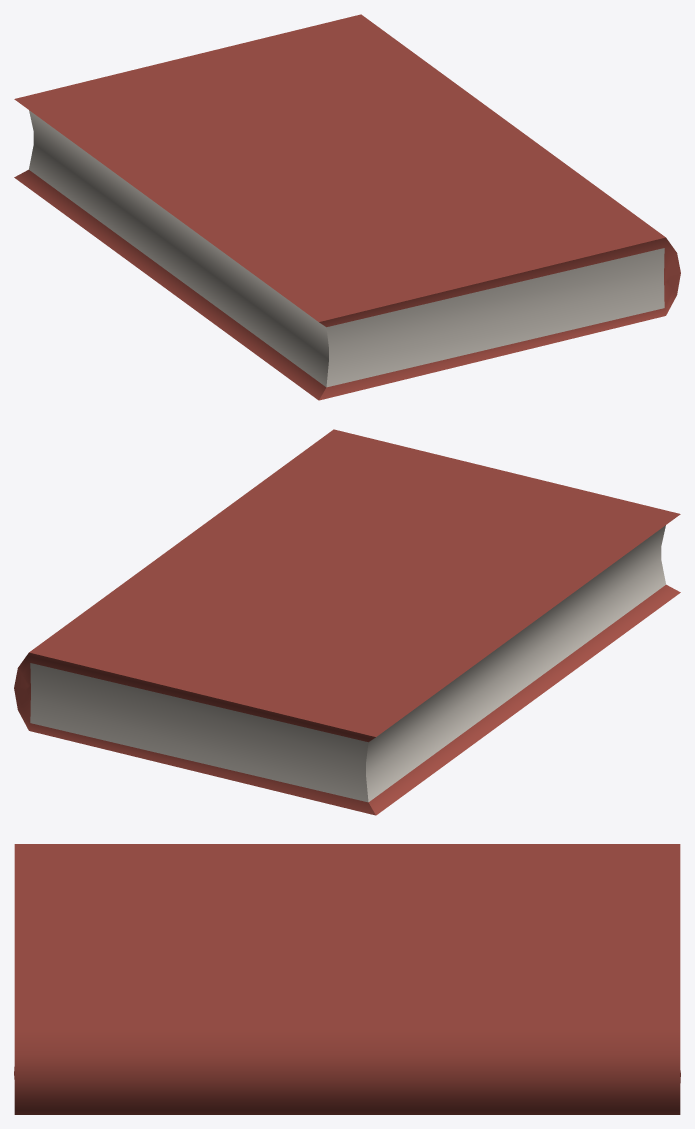
Rendered from Book3.fbx.
3 views of the same model, one above another, from view 1: azimuth 30°, elevation 25°; view 2: azimuth 150°, elevation 25°; view 3: azimuth 270°, elevation 25° (orthographic). The views are drawn at different scales.
Visible parts, largest first — view 1: pCube1; view 2: pCube1; view 3: pCube1.
Part boxes in pixels (x1,y1,x2,y2): pCube1: (14,14,680,400); pCube1: (14,429,680,815); pCube1: (14,844,680,1114).
Size of the model in its own units: 9.39 by 1.94 by 13.71.
